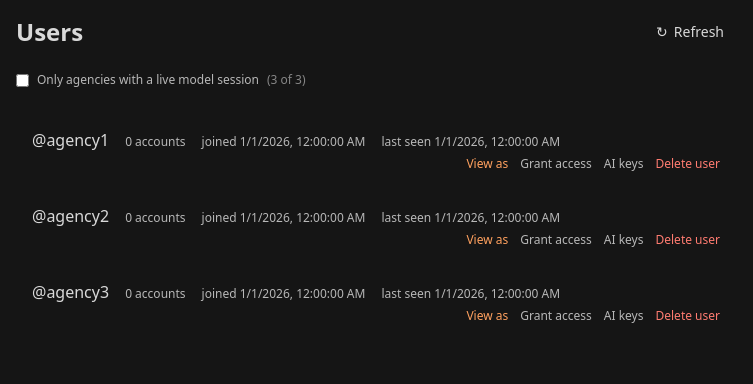
it: /admin/manage failed loads › a refresh failing after a good load keeps the rows and shows the error
Expected: the text "@agency1" is shown, [32,128,109,152]
Click the button "↻ Refresh": [690, 32] box [644,16,736,48]
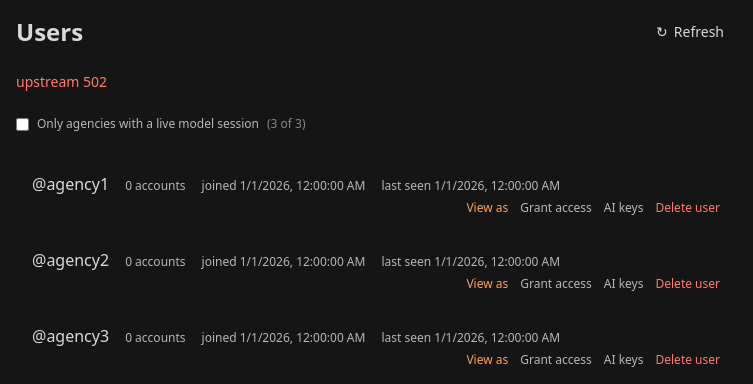
Expected: the text "@agency1" is shown, [32,172,109,196]
Now the message reads "upstream 502", box [16,72,107,91]
